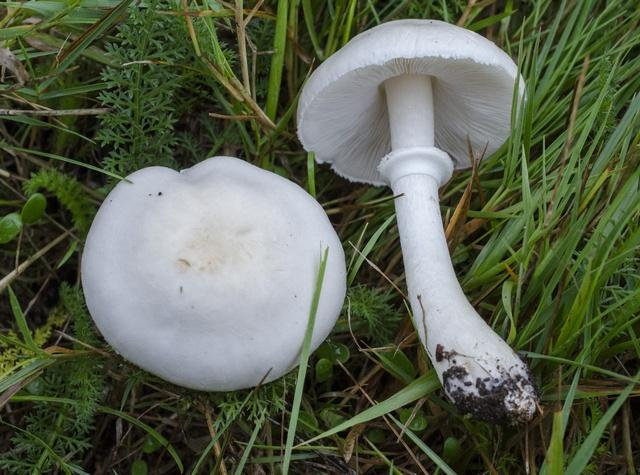Non-edible Mushroom: (294, 17, 541, 426), (79, 154, 347, 392)
